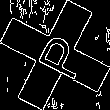P_NW: (24, 27, 86, 83)
